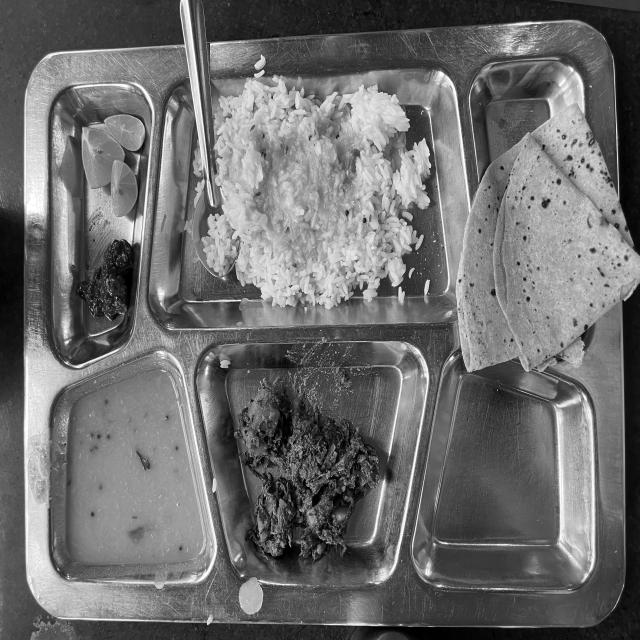70.6- Food Left: (45, 71, 610, 594)
